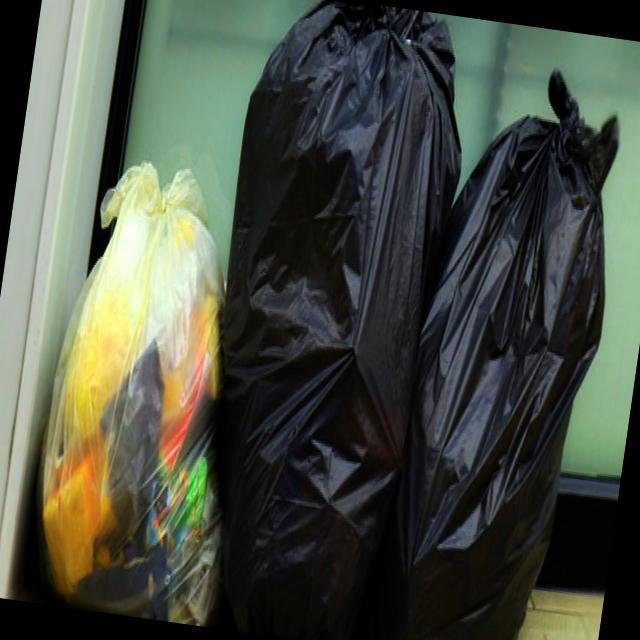garbage: (171, 0, 482, 640), (373, 50, 639, 640), (21, 141, 280, 628)
